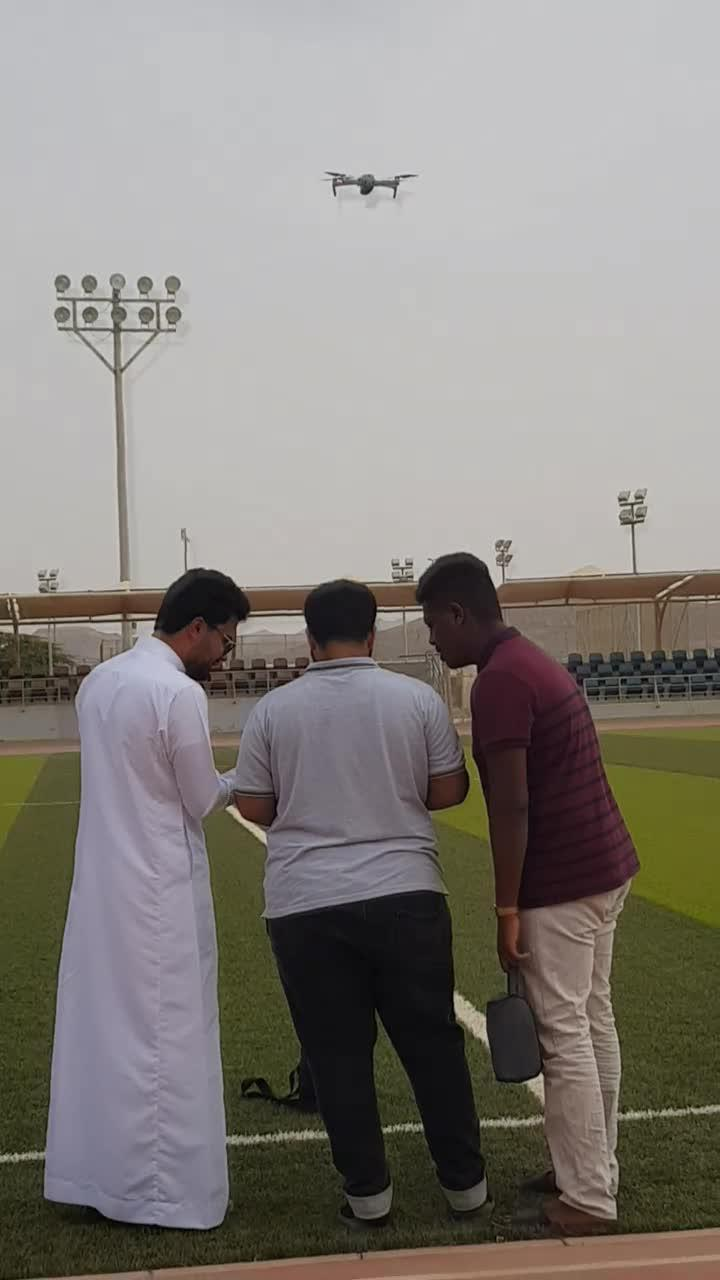drone: (324, 172, 418, 199)
